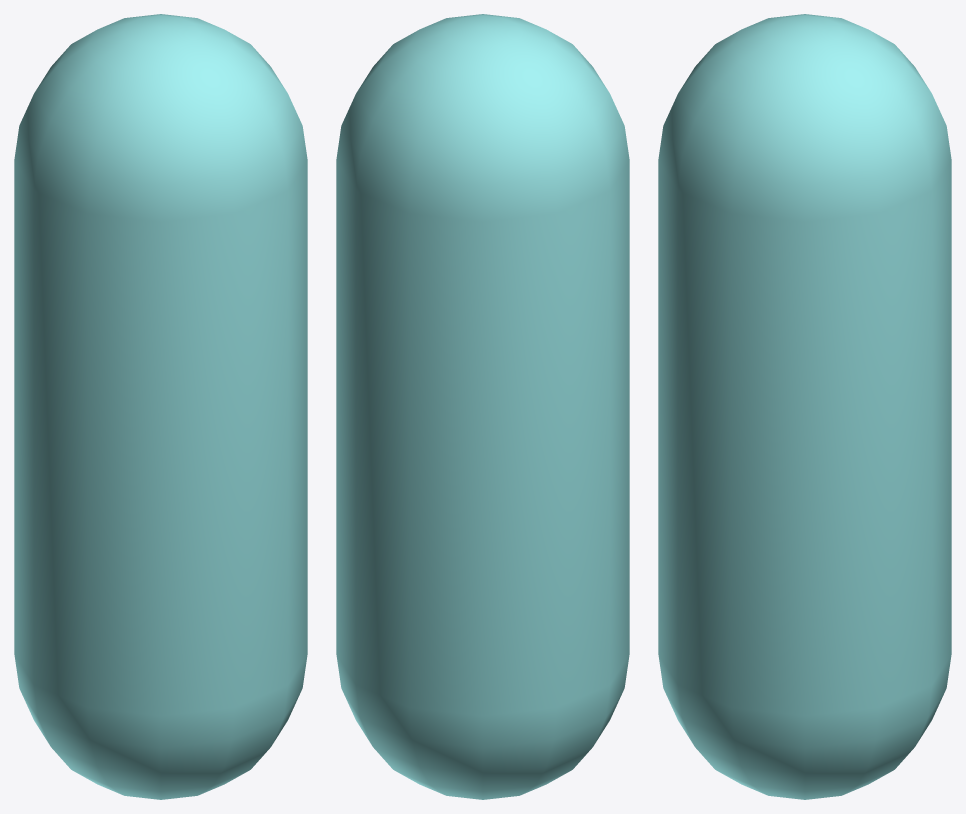
Rendered from character.FBX.
3 views of the same model, side by side, from view 1: azimuth 30°, elevation 25°; view 2: azimuth 150°, elevation 25°; view 3: azimuth 270°, elevation 25° (orthographic).
Visible parts, largest first — view 1: character; view 2: character; view 3: character.
Part boxes in pixels (x1=…): character: x1=14, y1=14, x2=307, y2=799; character: x1=336, y1=14, x2=629, y2=799; character: x1=658, y1=14, x2=951, y2=799.
Bounding box in the file's own units: 70 × 200 × 70.
